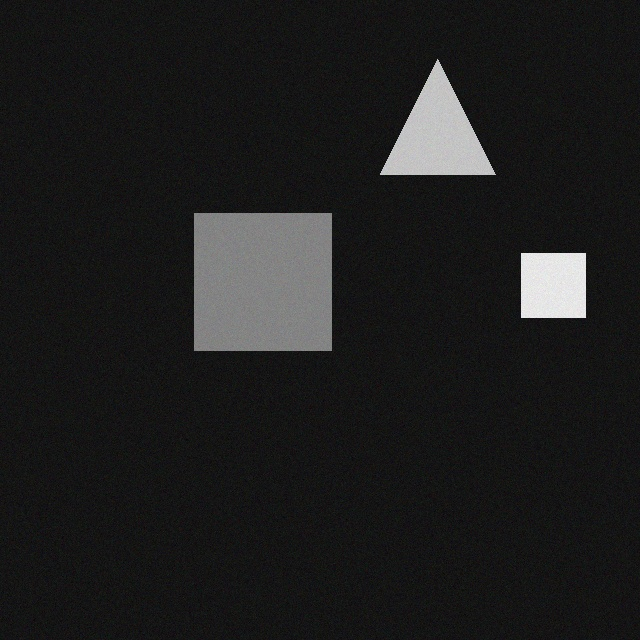square: (196, 219, 333, 356), (523, 259, 587, 323)
triangle: (382, 65, 497, 180)
